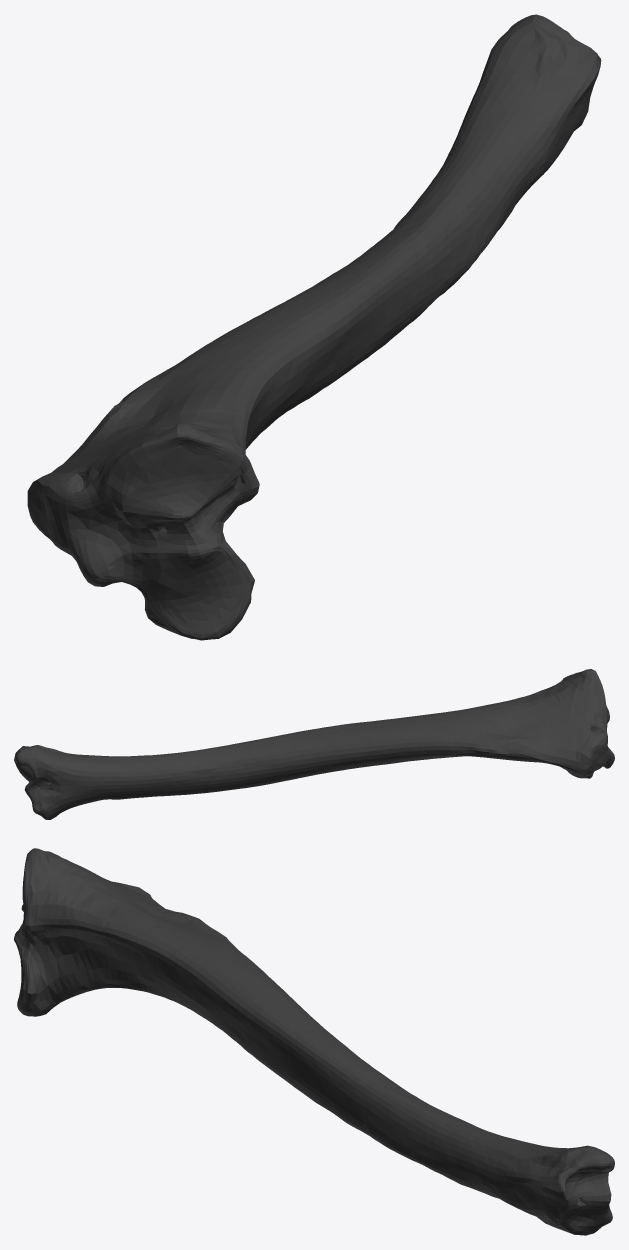
Rendered from Tibia_and_fibula2_L.glb.
The picture shows the model from 3 angles, top to bottom: view 1: azimuth 30°, elevation 25°; view 2: azimuth 150°, elevation 25°; view 3: azimuth 270°, elevation 25°; orthographic projection. The views are drawn at different scales.
Visible parts, largest first — view 1: Tibia_and_fibula2_L; view 2: Tibia_and_fibula2_L; view 3: Tibia_and_fibula2_L.
Boxes of the visible parts, left/top/right/bottom form: Tibia_and_fibula2_L: left=27, top=14, right=601, bottom=640; Tibia_and_fibula2_L: left=14, top=669, right=614, bottom=819; Tibia_and_fibula2_L: left=14, top=848, right=614, bottom=1235.
Bounding box in the file's own units: 0.2652 × 0.0641 × 0.2213.
Materials: 1 (1 with a texture image).
